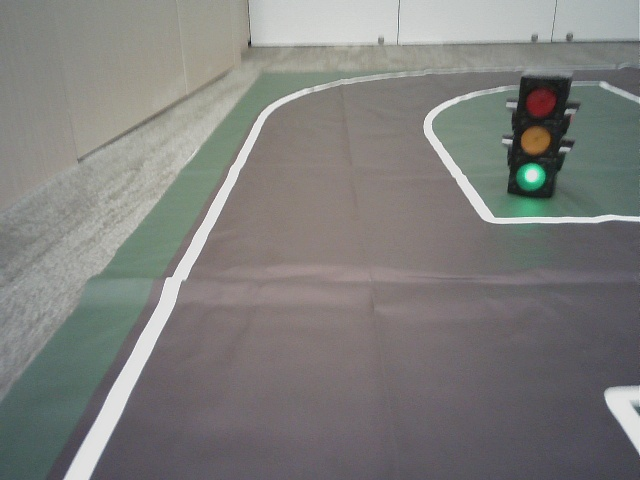green: (515, 77, 556, 190)
